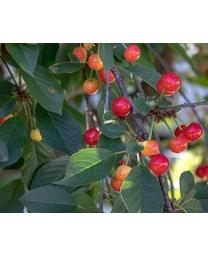cherry: (111, 97, 132, 118), (148, 155, 169, 175), (161, 71, 180, 91), (184, 123, 203, 142), (139, 139, 159, 157), (83, 128, 101, 146), (87, 53, 105, 71), (71, 46, 89, 64), (123, 45, 141, 62), (169, 136, 187, 152), (82, 77, 100, 93), (115, 164, 132, 179), (101, 66, 115, 83), (111, 176, 126, 190), (30, 127, 43, 142)
